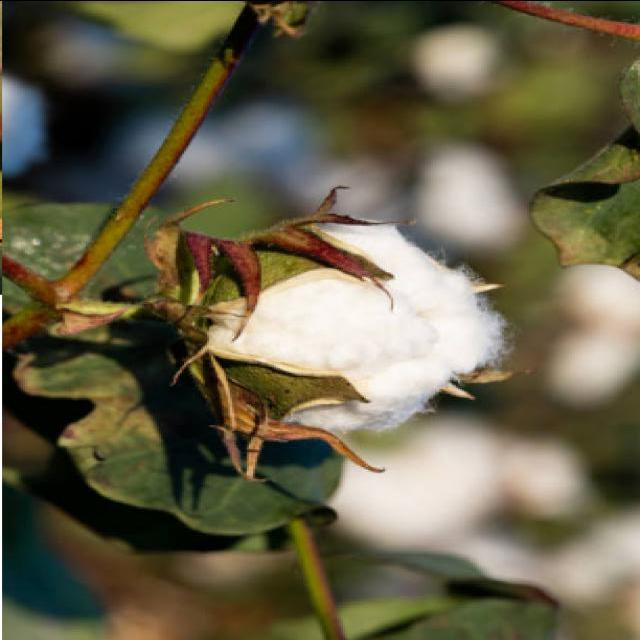Matured Cotton Boll: (183, 202, 519, 449)
